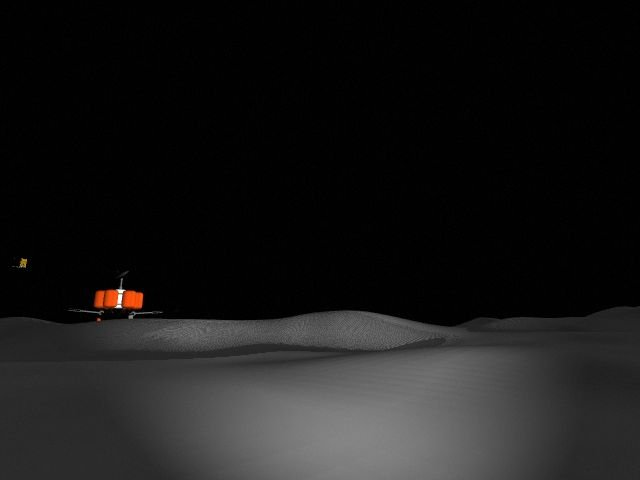cubesat: (10, 255, 31, 272)
